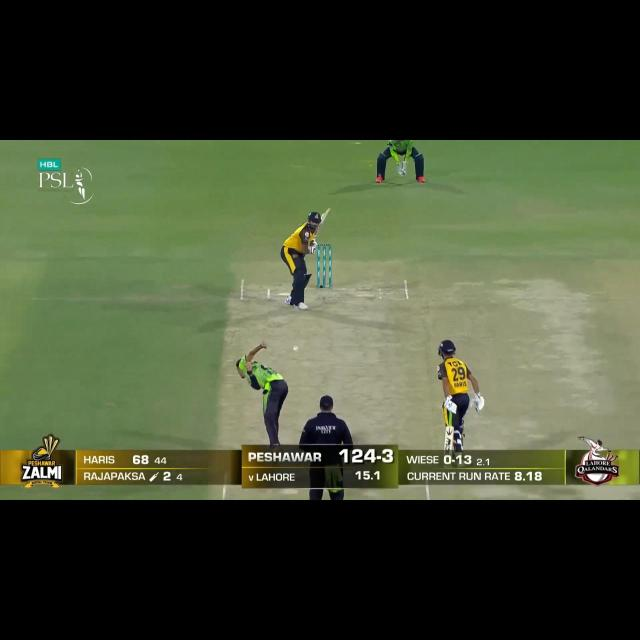bat: (314, 205, 331, 241), (442, 427, 455, 453)
toe: (324, 206, 332, 214)
